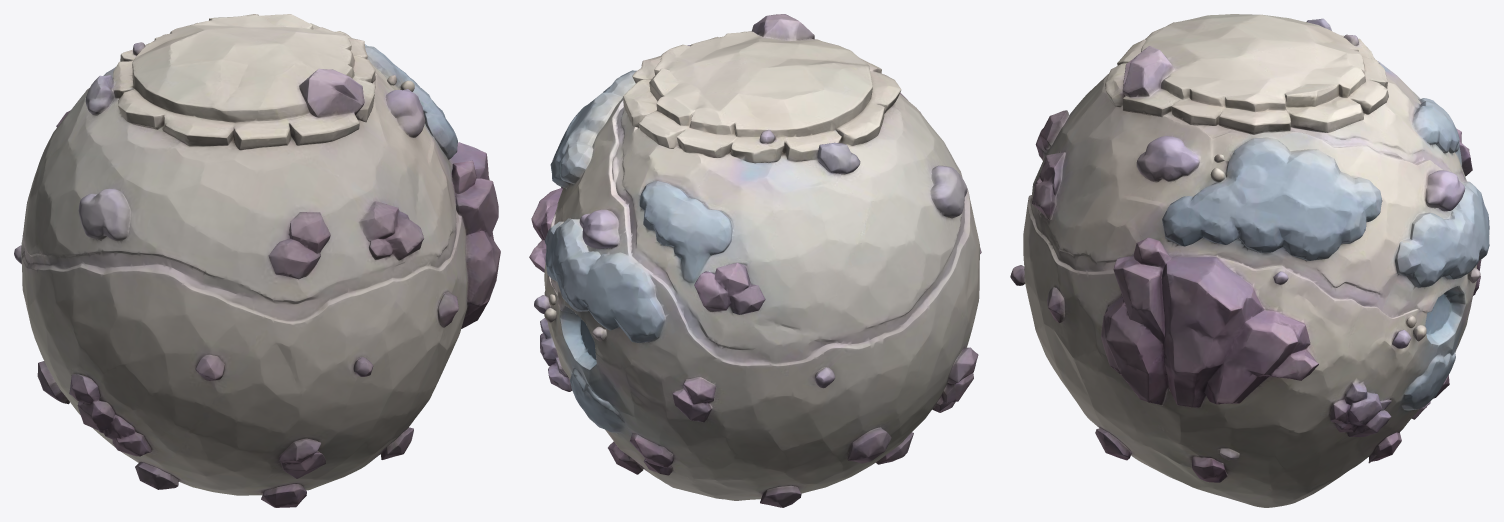
Rendered from vain_planet_base.glb.
The picture shows the model from 3 angles, left to right: view 1: azimuth 30°, elevation 25°; view 2: azimuth 150°, elevation 25°; view 3: azimuth 270°, elevation 25°; orthographic projection. The views are drawn at different scales.
Parts seen in each view (by area): view 1: tripo_node_2b413529-1c1b-497e-b9ab-ee6b00b4a29a; view 2: tripo_node_2b413529-1c1b-497e-b9ab-ee6b00b4a29a; view 3: tripo_node_2b413529-1c1b-497e-b9ab-ee6b00b4a29a.
Part boxes in pixels (x1,y1,x2,y2): tripo_node_2b413529-1c1b-497e-b9ab-ee6b00b4a29a: (14, 14, 500, 507); tripo_node_2b413529-1c1b-497e-b9ab-ee6b00b4a29a: (529, 14, 981, 507); tripo_node_2b413529-1c1b-497e-b9ab-ee6b00b4a29a: (1010, 14, 1489, 507).
Size of the model in its own units: 0.9946 by 1 by 0.9902.
Materials: 1 (1 with a texture image).
